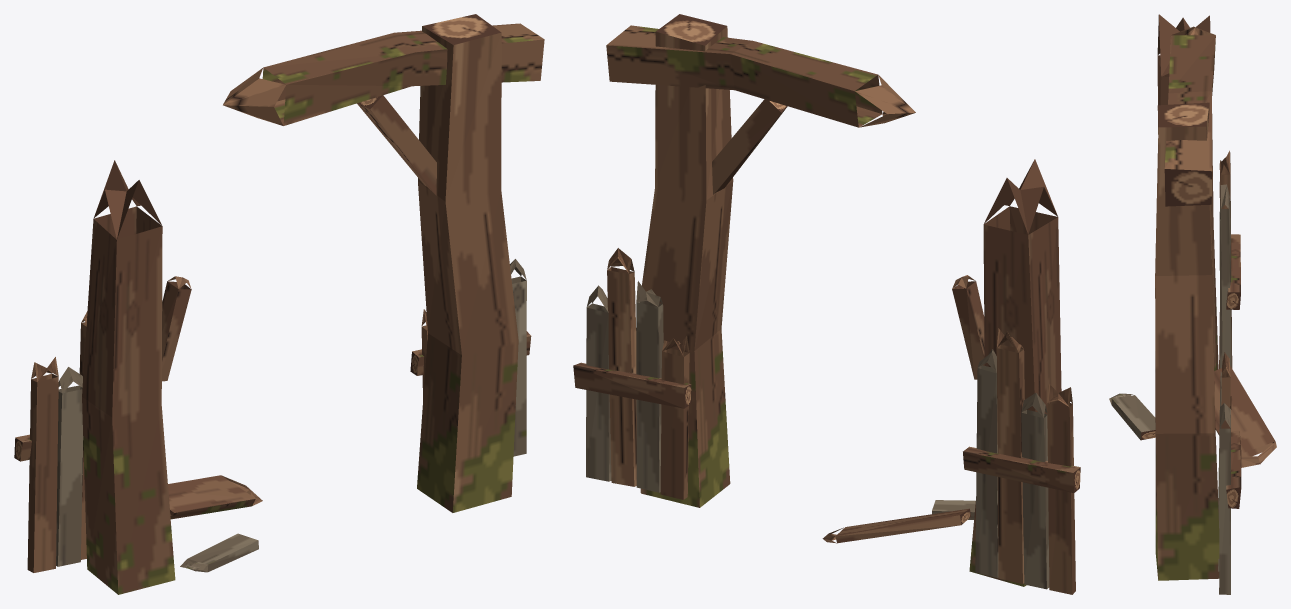
The model's file is SM_ST07_GateRuined.fbx.
The picture shows the model from 3 angles, left to right: view 1: azimuth 30°, elevation 25°; view 2: azimuth 150°, elevation 25°; view 3: azimuth 270°, elevation 25°; orthographic projection. The views are drawn at different scales.
Parts seen in each view (by area): view 1: ST07_Gate; view 2: ST07_Gate; view 3: ST07_Gate.
Boxes of the visible parts, box(x1,y1,x2,y2) form: ST07_Gate: box(14, 14, 544, 594); ST07_Gate: box(573, 14, 1080, 594); ST07_Gate: box(1109, 14, 1276, 594).
Bounding box in the file's own units: 3.09 × 2.71 × 0.9154.
